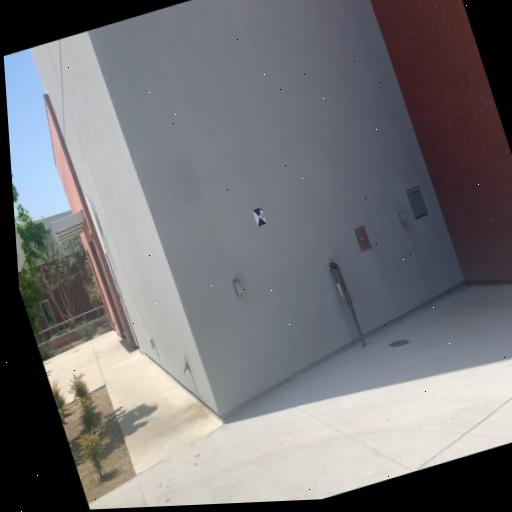target5: (252, 206, 267, 228)
